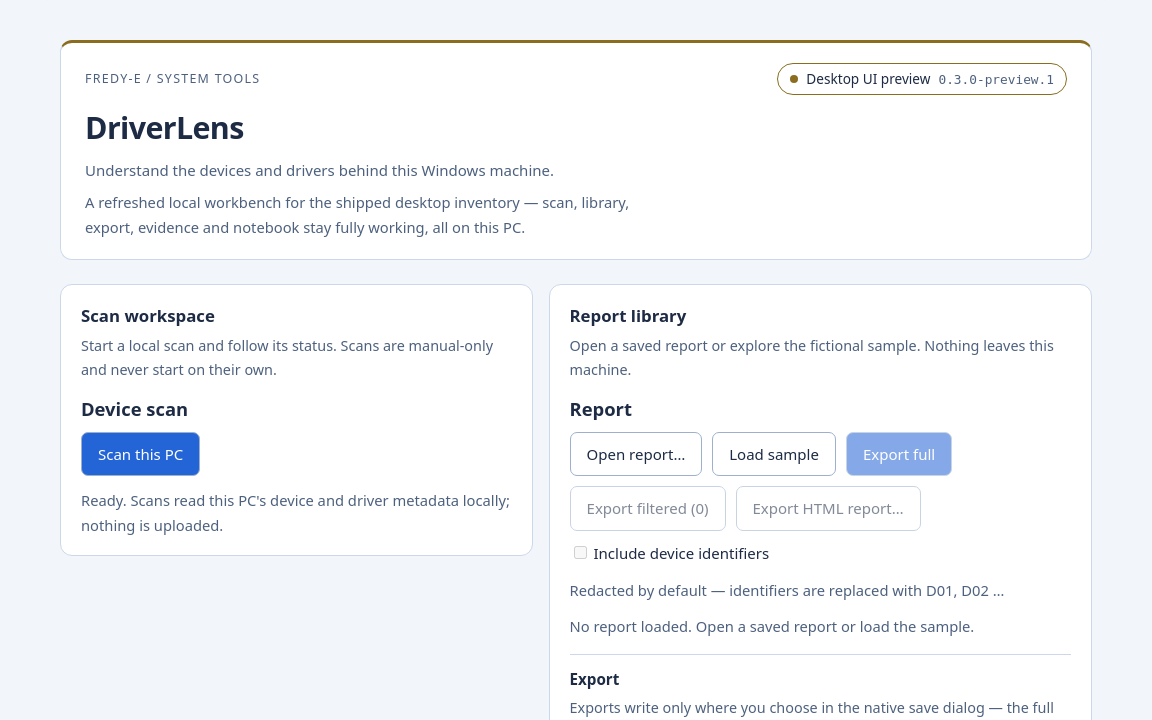
Scenario: App — Export HTML report flows › exports a redacted document by default (ordinals; digests stay out)
Click the button "Load sample" at x=774, y=454, box top-left (712, 432), bottom-right (836, 476)
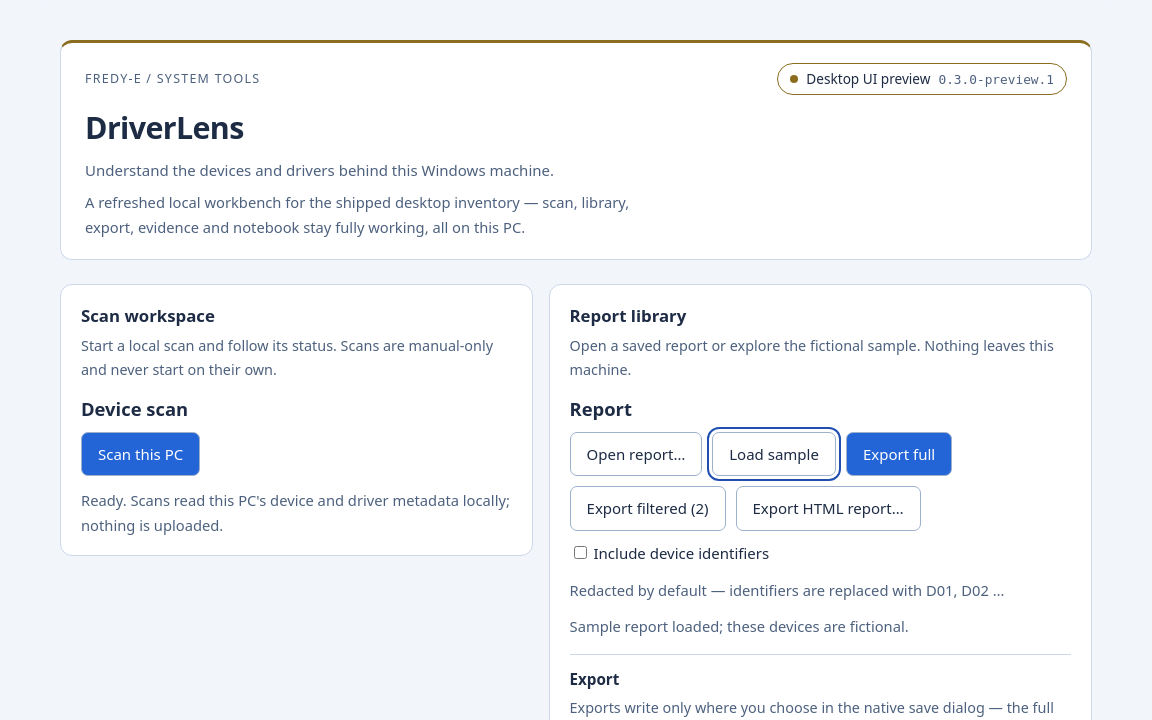
Result: the text "Sample report loaded; these devices are fictional." is shown at top-left (570, 616), bottom-right (909, 636)
Click the button "Export HTML report…" at x=828, y=509, box top-left (736, 486), bottom-right (920, 531)
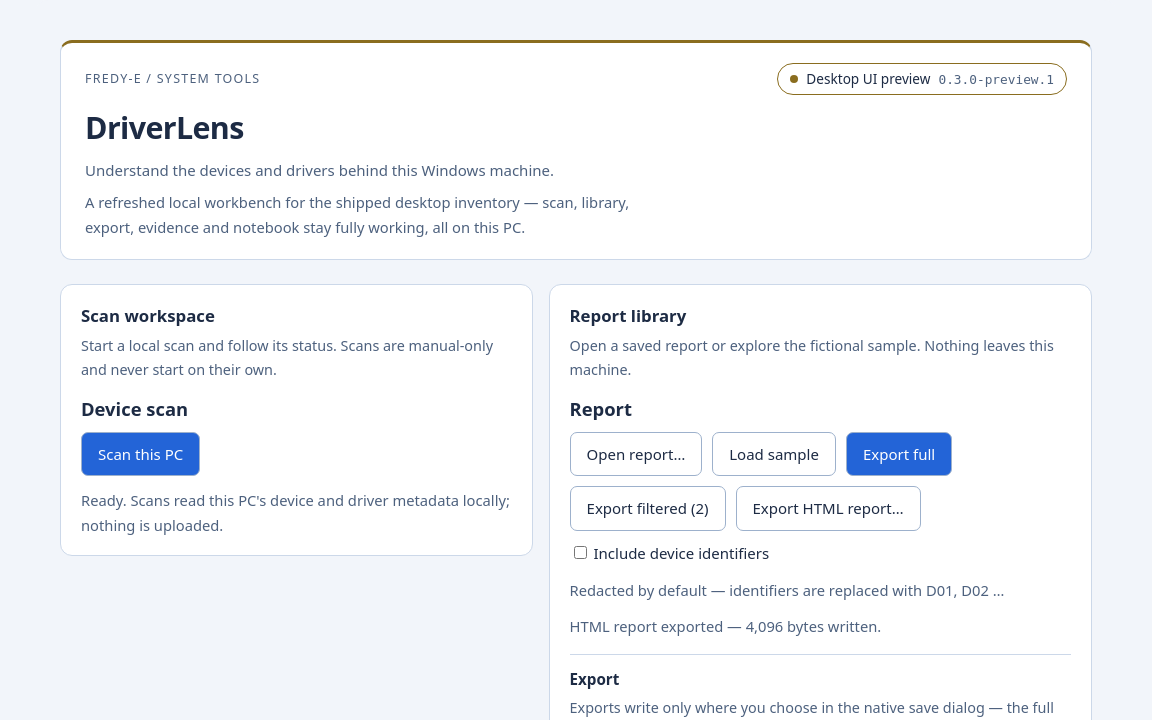
Result: the text "HTML report exported — 4,096 bytes written." is shown at top-left (570, 616), bottom-right (881, 636)
